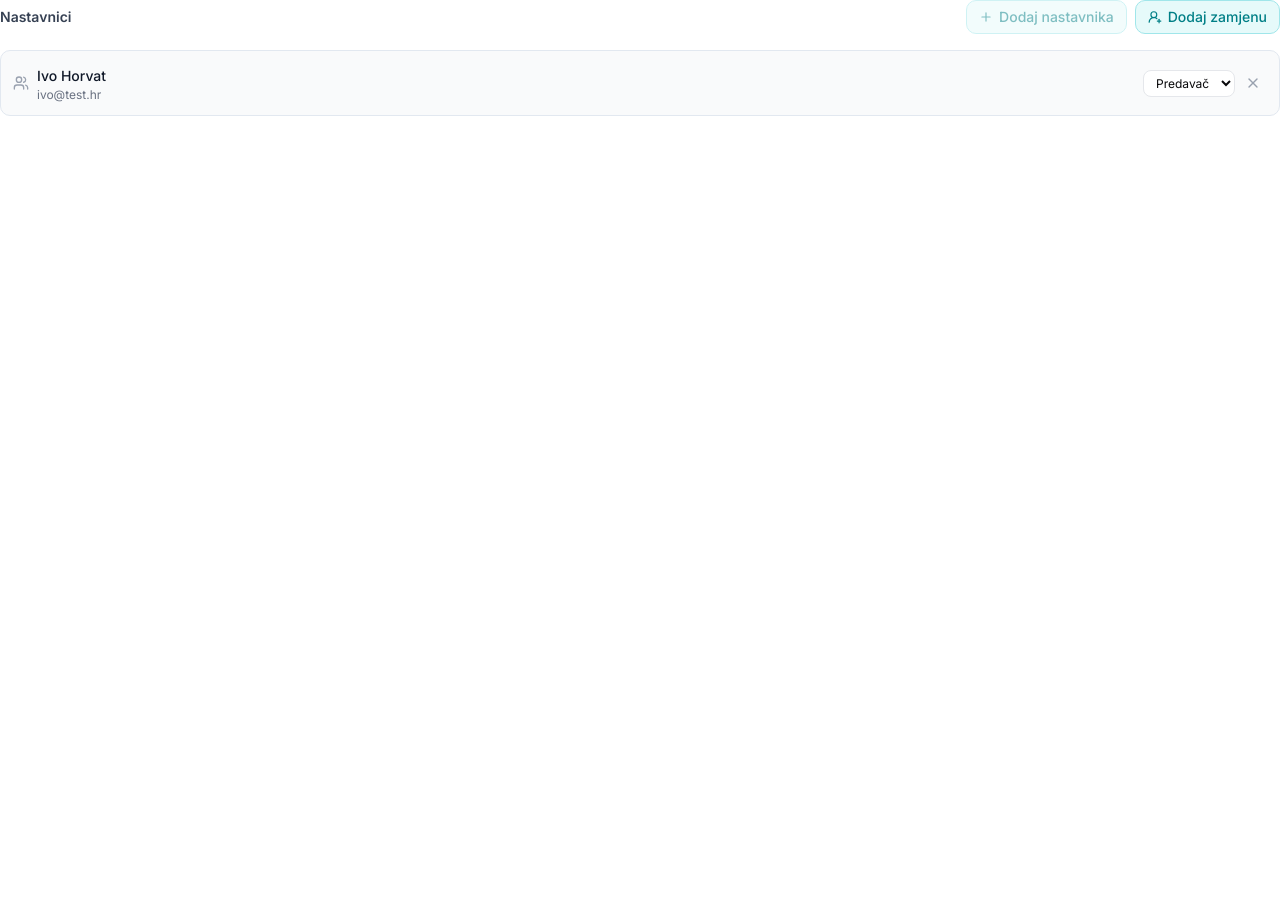
Test: GroupTeachersPanel — Dodaj zamjenu lifecycle › reopens empty and reloaded after a successful save
This screenshot has width=1280, height=900.
Click the button "Dodaj zamjenu".
click(1207, 17)  # box [1135, 0, 1279, 34]
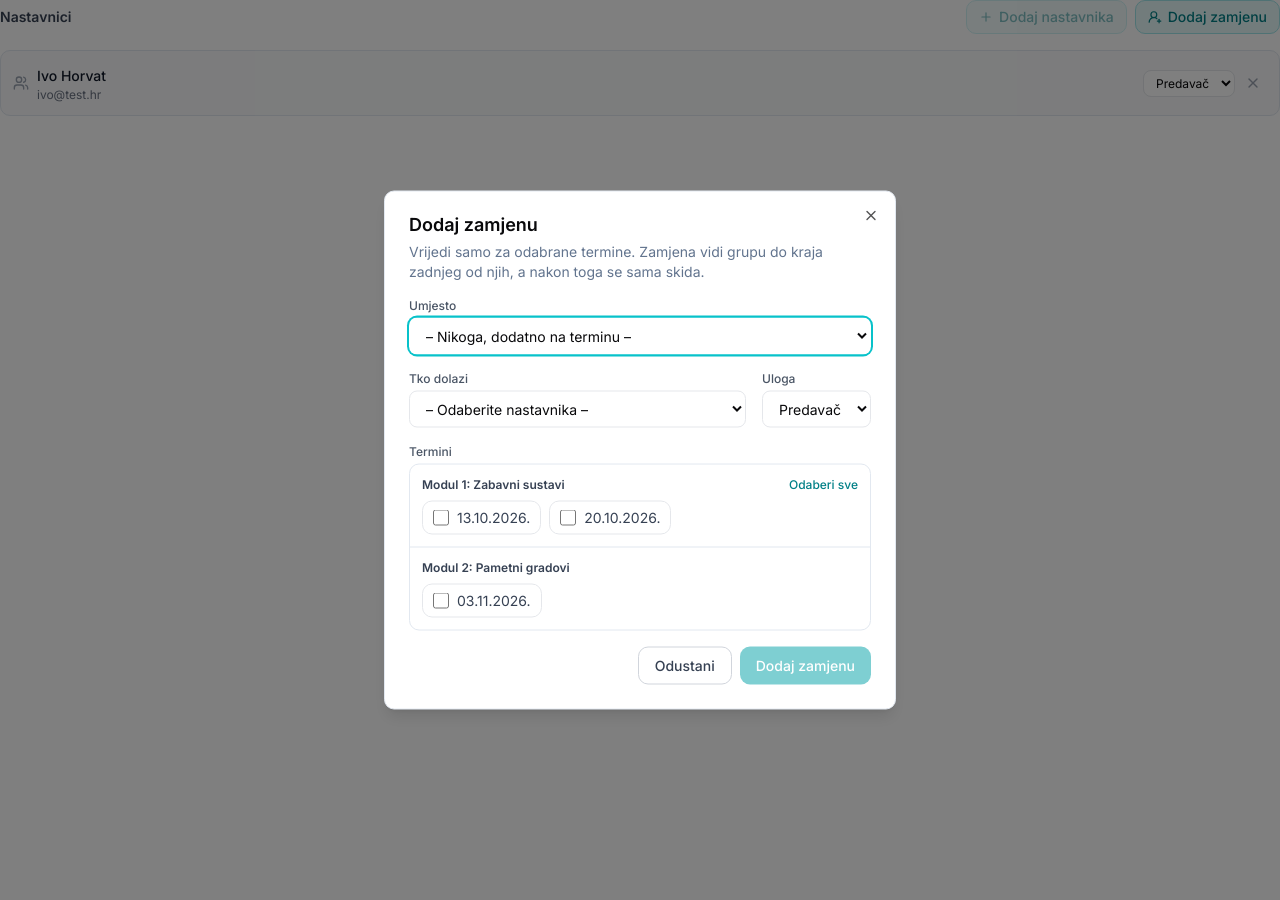
Expected: the text "Modul 1: Zabavni sustavi" is shown, [422, 476, 565, 492]
Select "Ivo Horvat (predavač)" in the dropdown labelled "Umjesto" at (640, 336), box [409, 318, 871, 354]
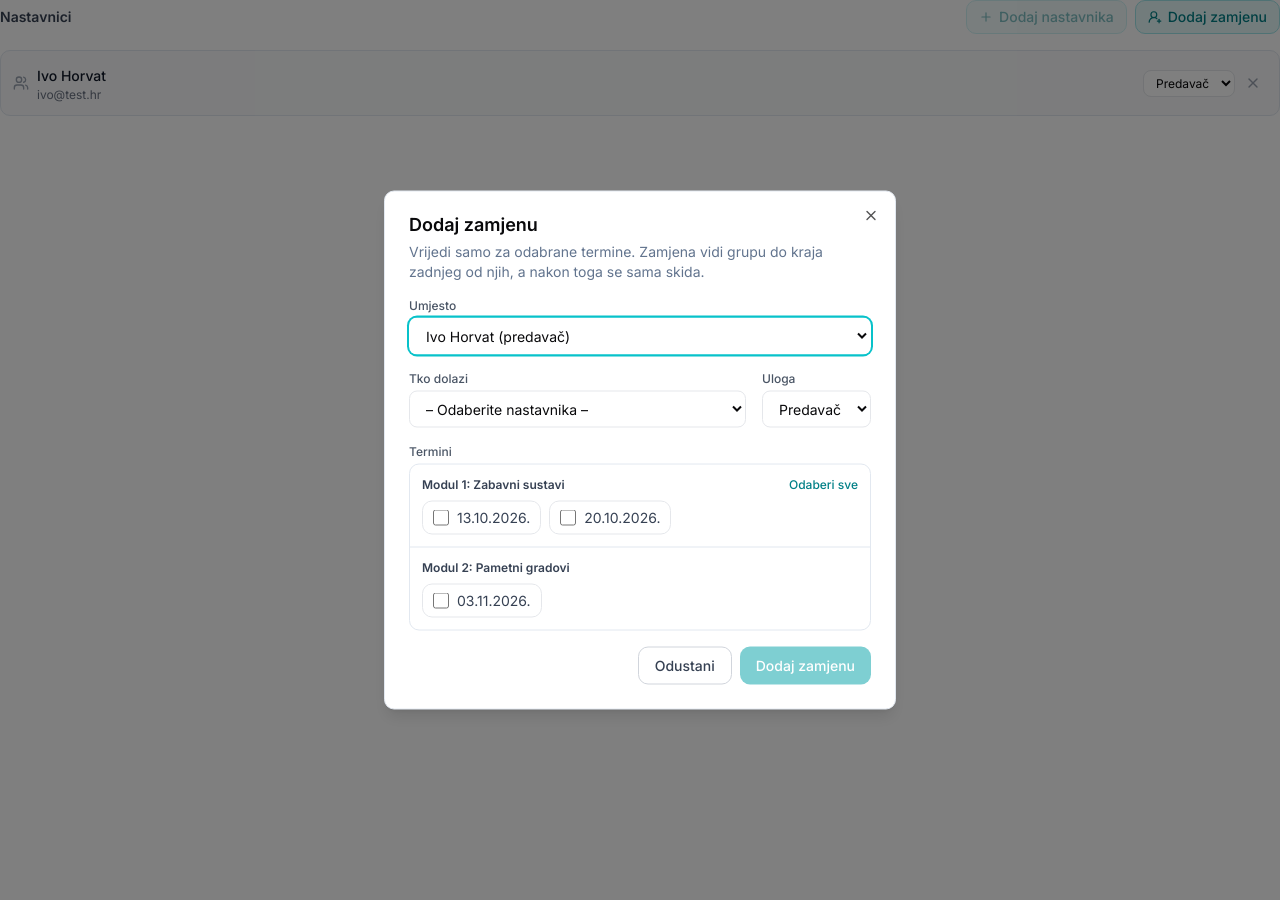
Select "Marko Marić" in the dropdown labelled "Tko dolazi" at (578, 409), box [409, 390, 746, 428]
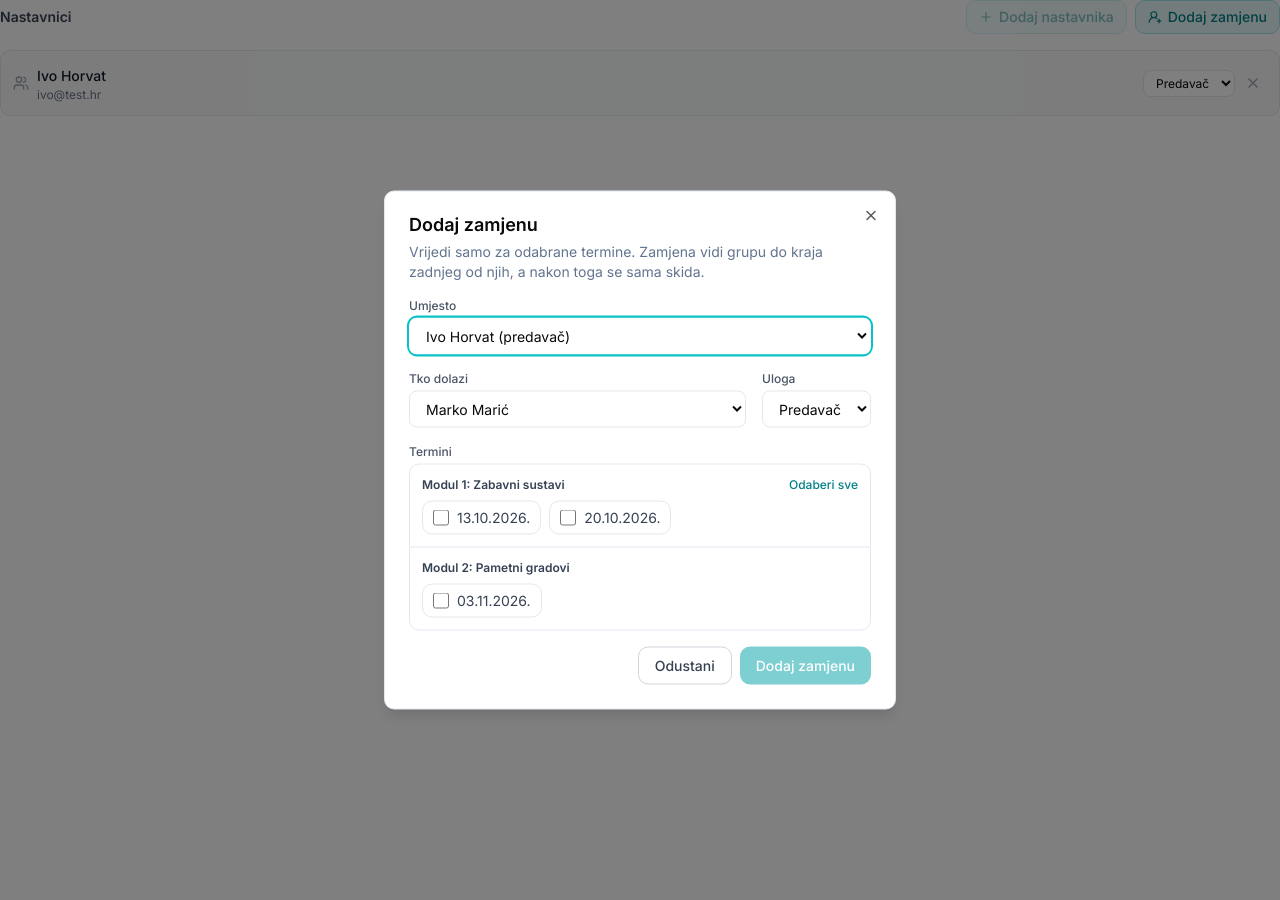
Click the checkbox labelled "13.10.2026.".
click(441, 518)  # box [433, 510, 449, 526]
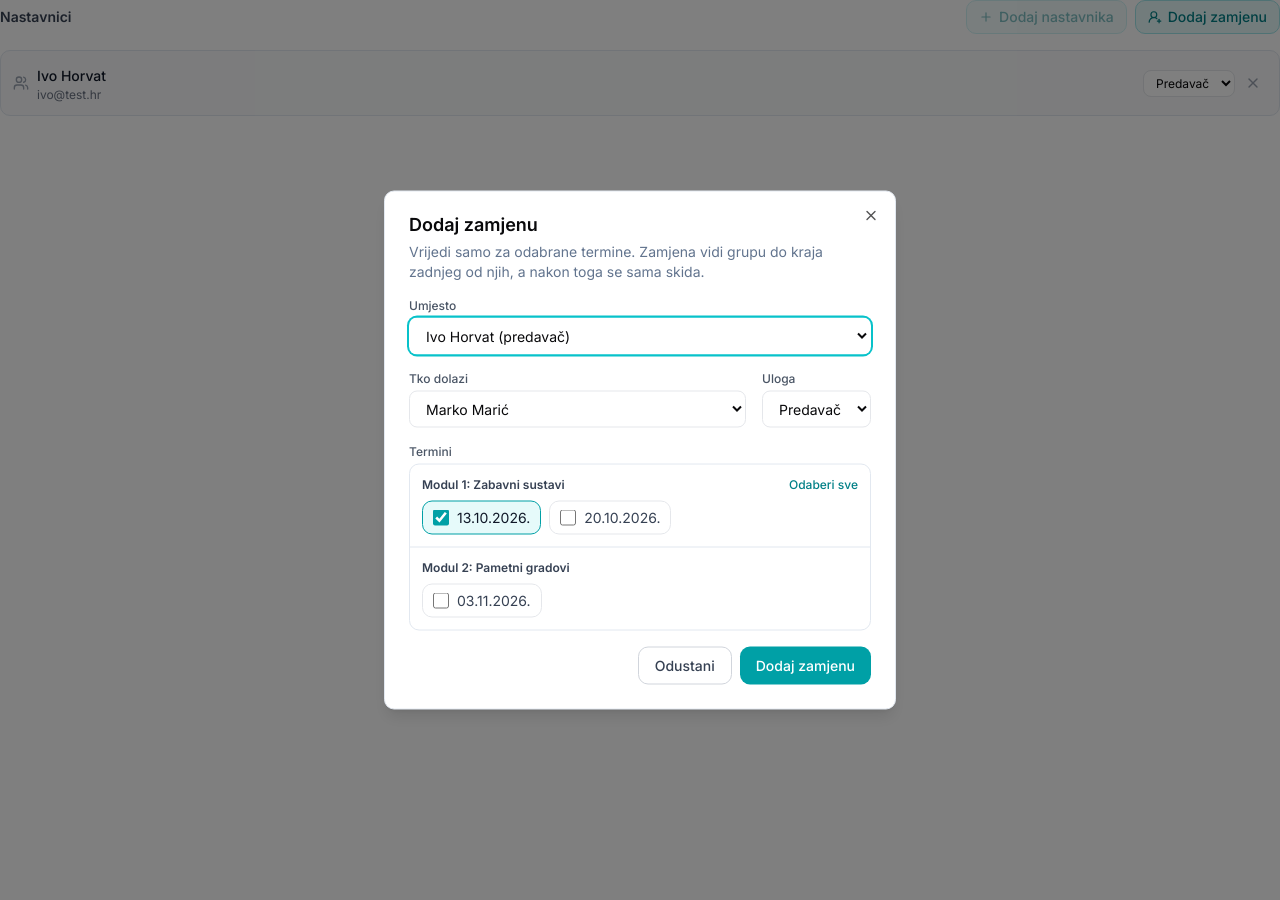
Click the button "Dodaj zamjenu".
click(805, 666)  # box [740, 646, 871, 684]
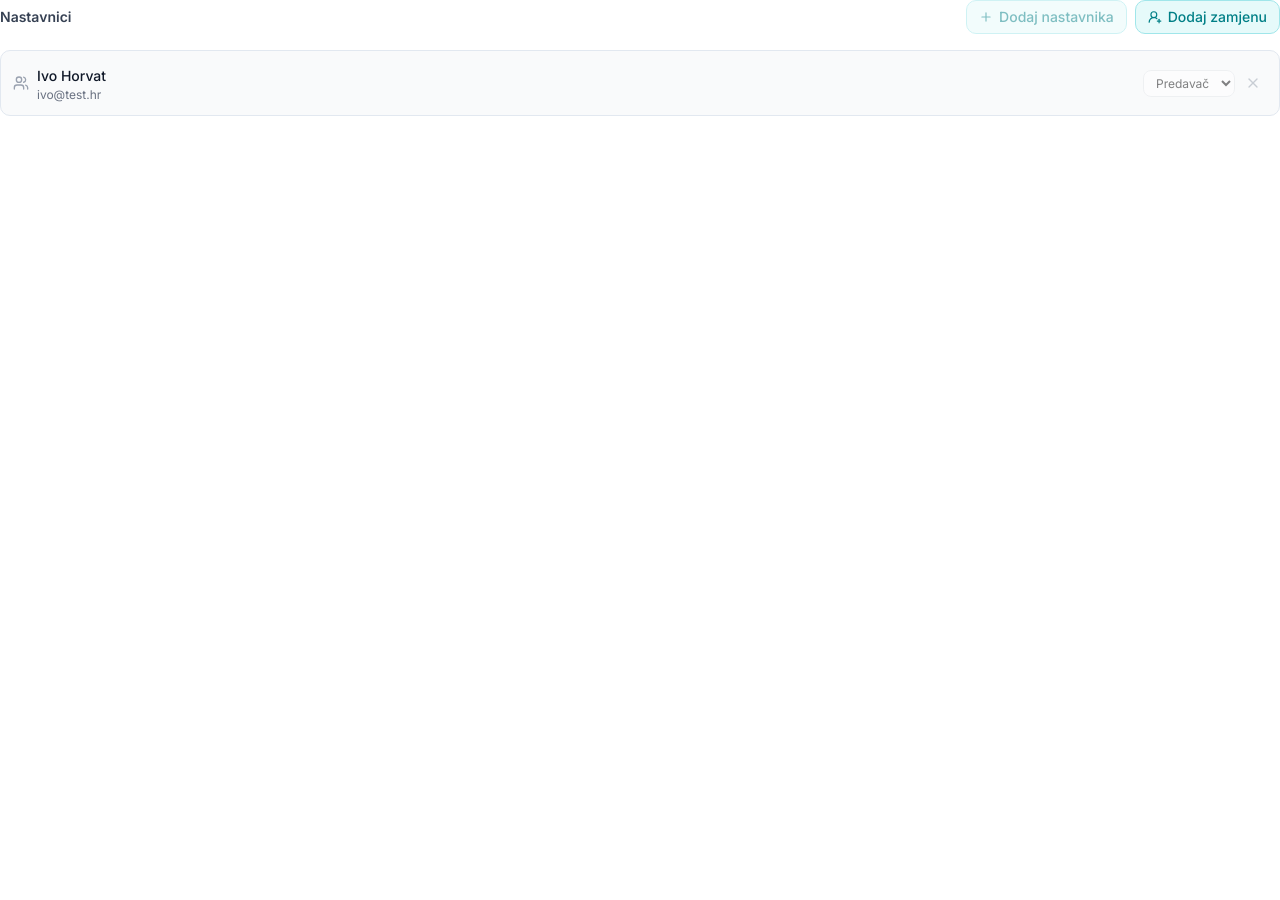
Expected: the dialog is gone
Click the button "Dodaj zamjenu".
click(1207, 17)  # box [1135, 0, 1279, 34]
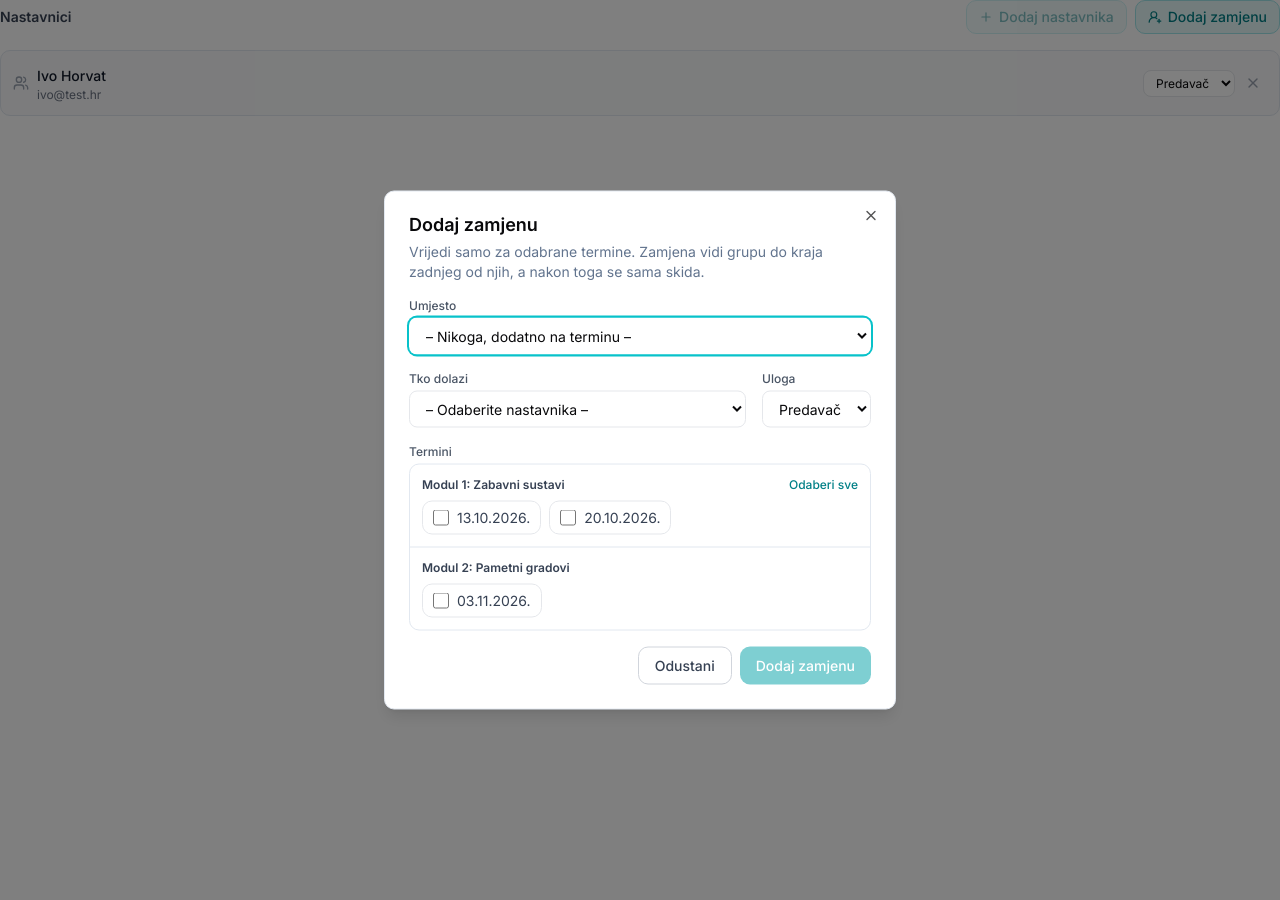
Expected: the text "Modul 1: Zabavni sustavi" is shown, [422, 476, 565, 492]
Expected: the dropdown labelled "Tko dolazi" shows "– Odaberite nastavnika –", [409, 390, 746, 428]
Expected: the checkbox labelled "13.10.2026." is not checked, [433, 510, 449, 526]
